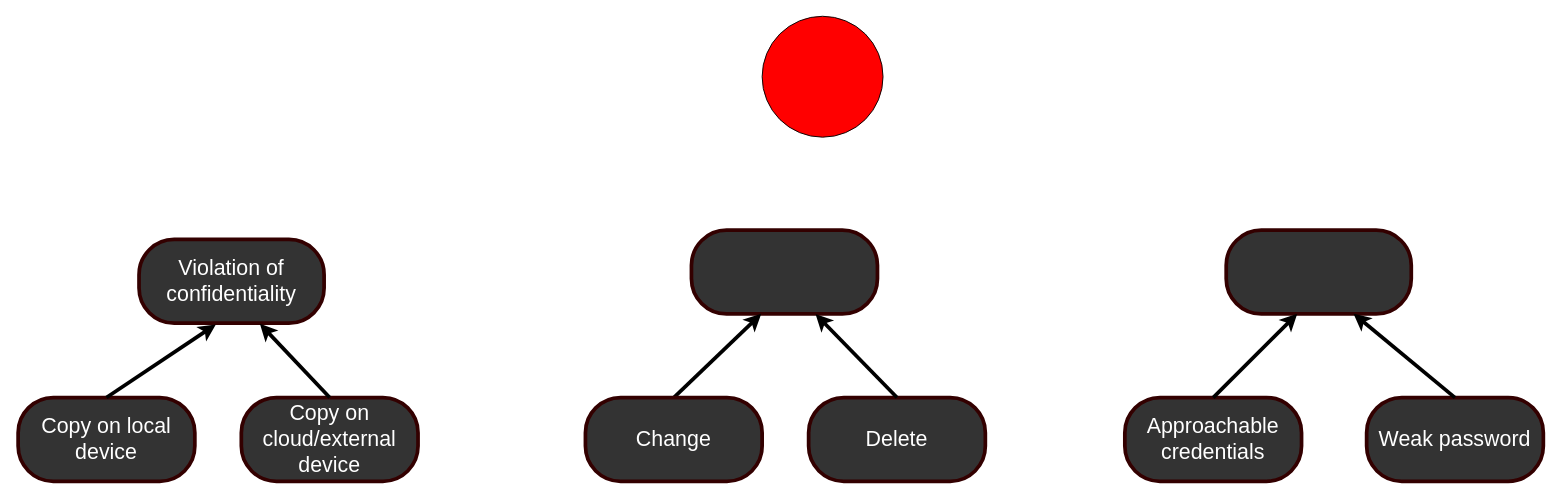
The diagram is 1561 pixels wide and 499 high, and some of its shapes have lost their labels. The centre of each missing label's shape, as x and y in pixels:
Clumsy Direttore dei lavori: point (822, 76)
Violation of authenticity: point (1318, 271)
Violation of integrity: point (784, 271)
